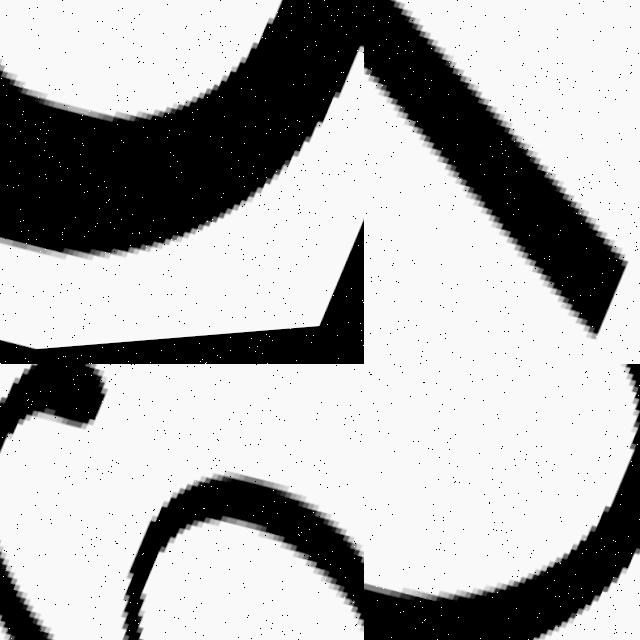9: (0, 364, 364, 640)
D: (0, 0, 364, 348)
O: (364, 364, 640, 640)
V: (364, 0, 640, 364)
